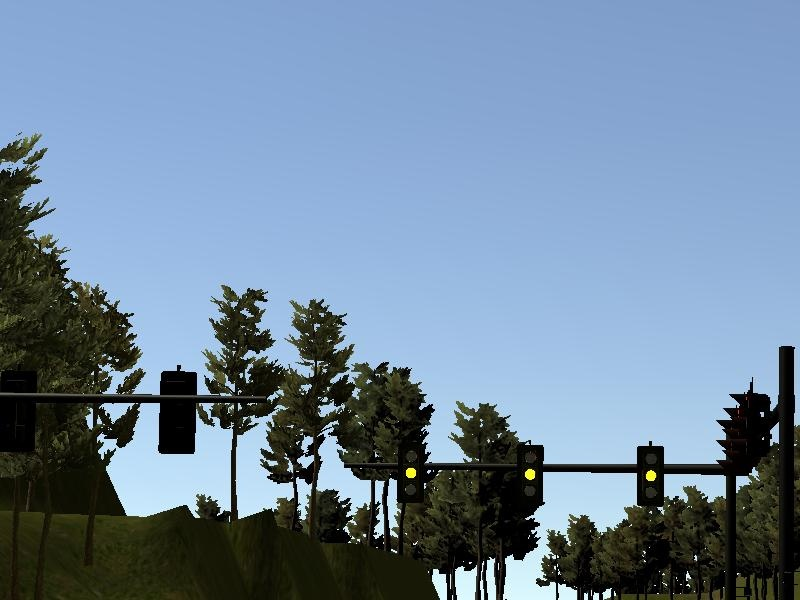yellow: (632, 438, 667, 510), (512, 440, 548, 509), (395, 437, 425, 508)
